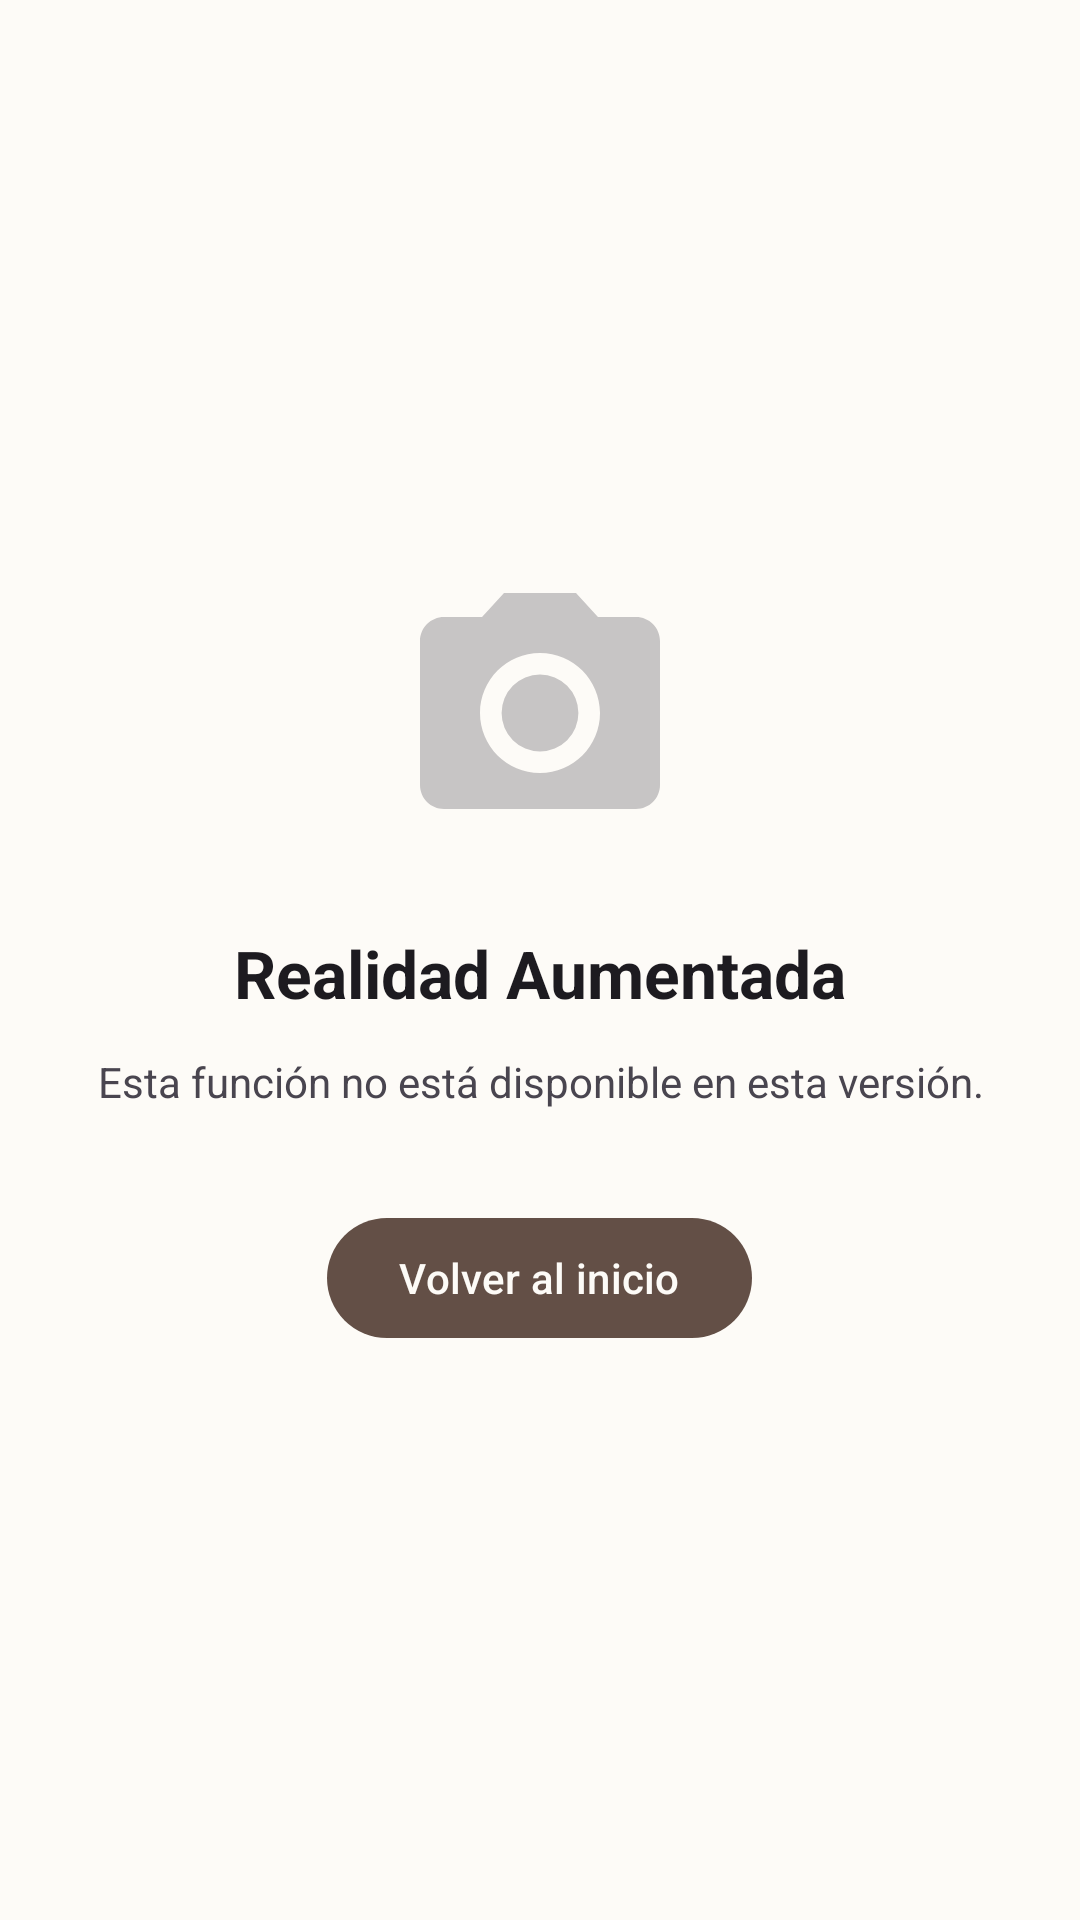

Icon bounding boxes for this 1080w x 1920h phone screenshot, format (x1=x1, y1=y1, x2=x2, y2=y2):
Icono cámara: (x1=420, y1=593, x2=660, y2=809)
